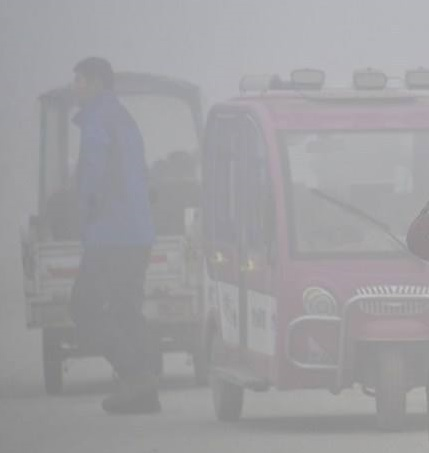person: (63, 53, 174, 417)
